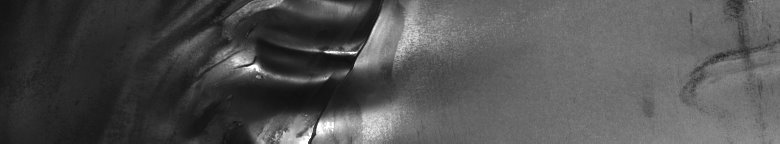ke: (174, 4, 404, 136)
